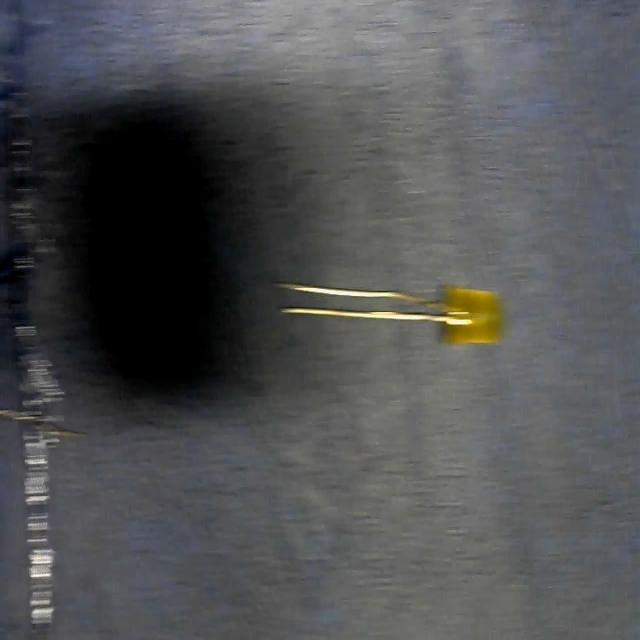LED: (278, 267, 505, 343)
